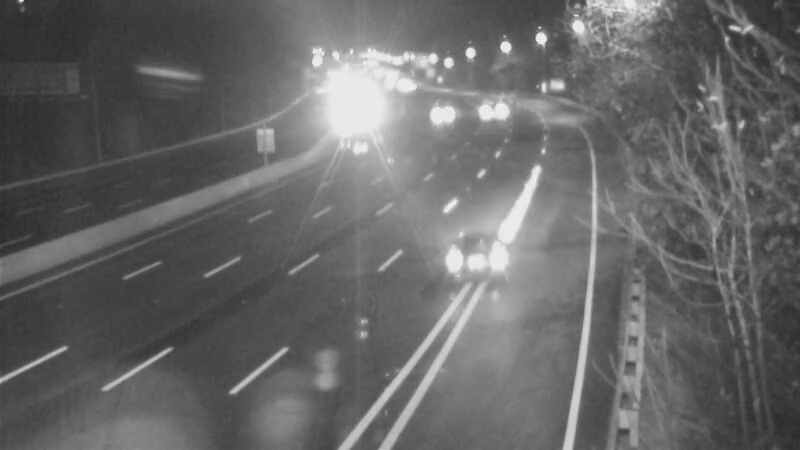vehicle: (427, 216, 507, 296), (418, 87, 468, 137), (467, 83, 517, 133)
